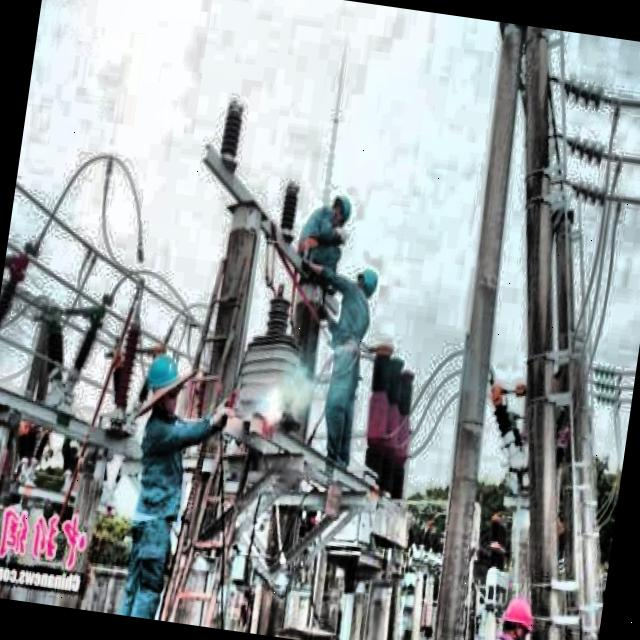helmet: (137, 344, 189, 426), (498, 593, 537, 640), (351, 266, 382, 300), (327, 192, 354, 226)
